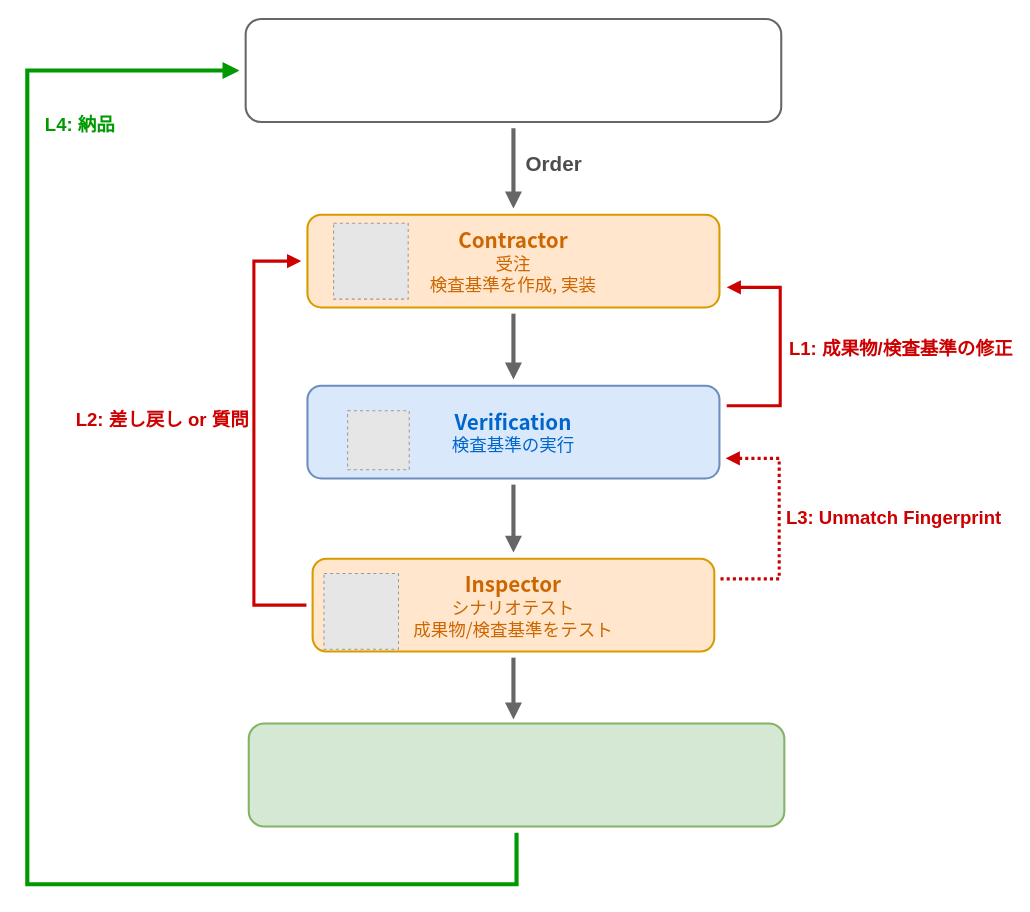
Some shapes in this 1030 by 912 pixel diagram are drawn without their labels. Grey dashed boxes stand in for pictures. Here are the shapes that lost their labels. From the top down, the centre of each, then its label:
At point 513,70: "Human 発注 要求/制約を指示".
At point 516,774: "Pass".
